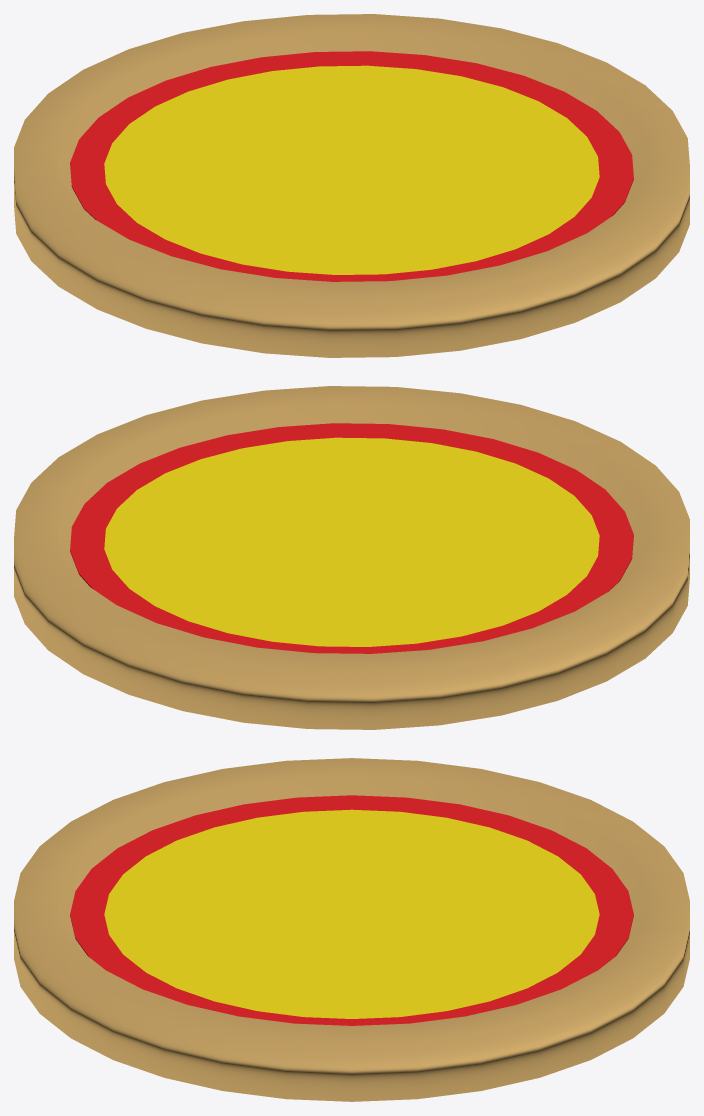
File: FlattenedDoughCheeseBaked.glb
3 renders of one model, top to bottom at view 1: azimuth 30°, elevation 25°; view 2: azimuth 150°, elevation 25°; view 3: azimuth 270°, elevation 25°, orthographic.
Parts seen in each view (by area): view 1: Sauce.001, Dough; view 2: Sauce.001, Dough; view 3: Sauce.001, Dough.
Boxes of the visible parts, left/top/right/bottom form: Sauce.001: left=70, top=51, right=633, bottom=281; Dough: left=14, top=14, right=689, bottom=357; Sauce.001: left=70, top=423, right=633, bottom=653; Dough: left=14, top=386, right=689, bottom=729; Sauce.001: left=70, top=795, right=633, bottom=1025; Dough: left=14, top=758, right=689, bottom=1101.
Size of the model in its own units: 2 by 0.1899 by 2.
